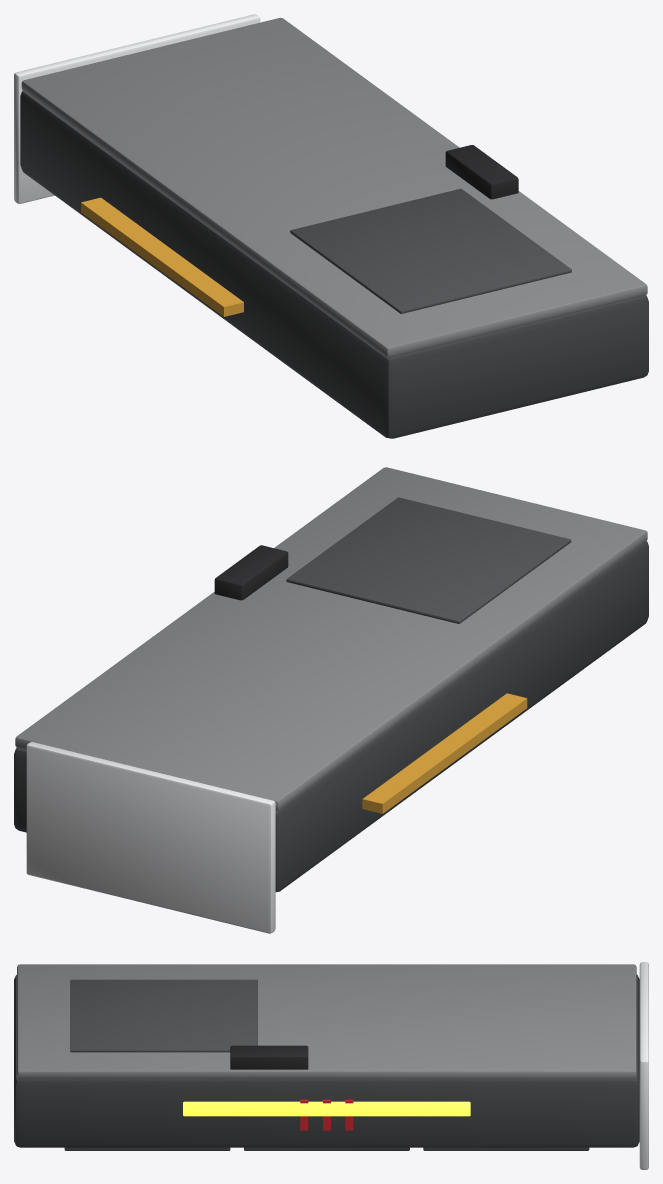
Rendered from gpu_rx7900gre.glb.
3 renders of one model, top to bottom at view 1: azimuth 30°, elevation 25°; view 2: azimuth 150°, elevation 25°; view 3: azimuth 270°, elevation 25°, orthographic. The views are drawn at different scales.
Visible parts, largest first — view 1: RX7900GRE_Body; view 2: RX7900GRE_Body; view 3: RX7900GRE_Body, RGB_RX7900GRE_Bar, RX7900GRE_F2_Frame, RX7900GRE_F0_Frame, RX7900GRE_F1_Frame.
Part boxes in pixels (x1,y1,x2,y2): RX7900GRE_Body: (14,14,648,438); RX7900GRE_Body: (14,467,648,933); RX7900GRE_Body: (14,962,648,1169); RGB_RX7900GRE_Bar: (183,1101,470,1116); RX7900GRE_F2_Frame: (423,1147,589,1150); RX7900GRE_F0_Frame: (64,1147,230,1150); RX7900GRE_F1_Frame: (244,1147,409,1150).
Size of the model in its own units: 1.23 by 0.5772 by 2.76.
